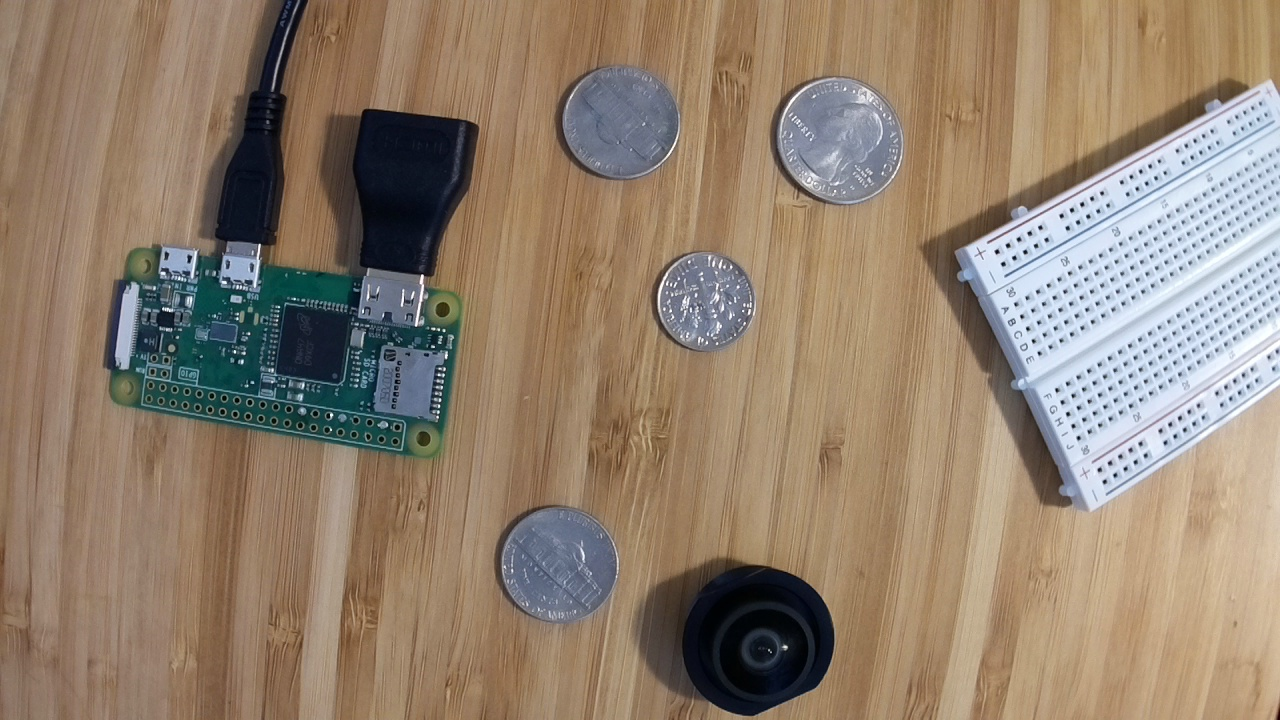dime: (652, 249, 758, 353)
nickel: (556, 58, 680, 186), (492, 504, 620, 624)
quarter: (774, 72, 906, 206)
